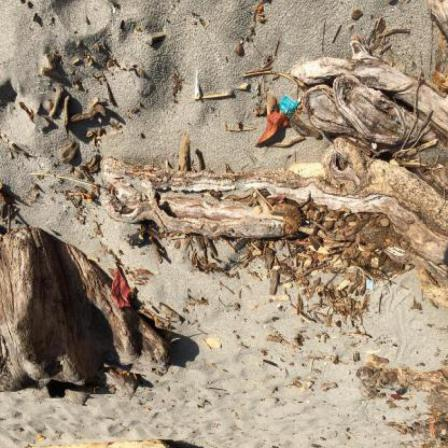Other plastic: (197, 72, 201, 102), (358, 270, 361, 280)
Plastic bag - wrapper: (280, 96, 299, 117)
Unlabeled litter: (366, 278, 375, 292)
